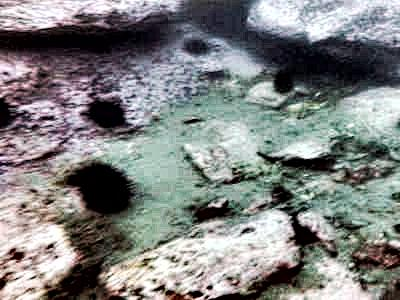urchin: (77, 165, 126, 207), (91, 103, 119, 127), (185, 39, 211, 58)
